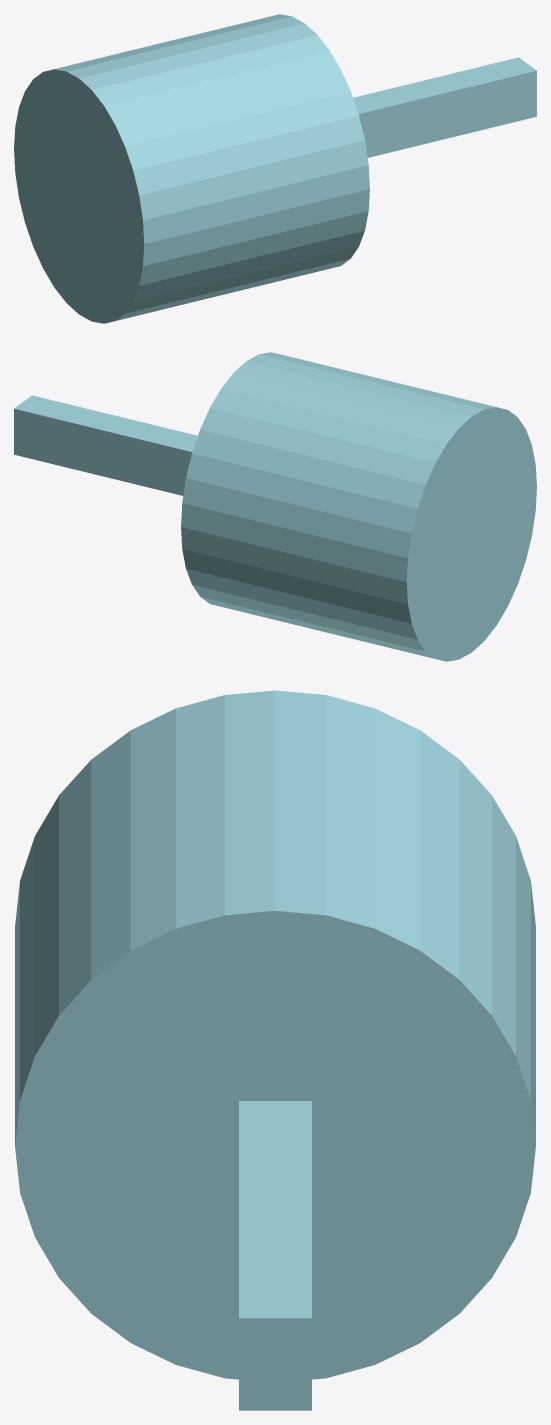
File: cylinder_screwdriver_v3000.obj
The picture shows the model from 3 angles, top to bottom: view 1: azimuth 30°, elevation 25°; view 2: azimuth 150°, elevation 25°; view 3: azimuth 270°, elevation 25°; orthographic projection. The views are drawn at different scales.
Size of the model in its own units: 0.1492 by 0.075 by 0.075.
Materials: 1 (1 with a texture image).
